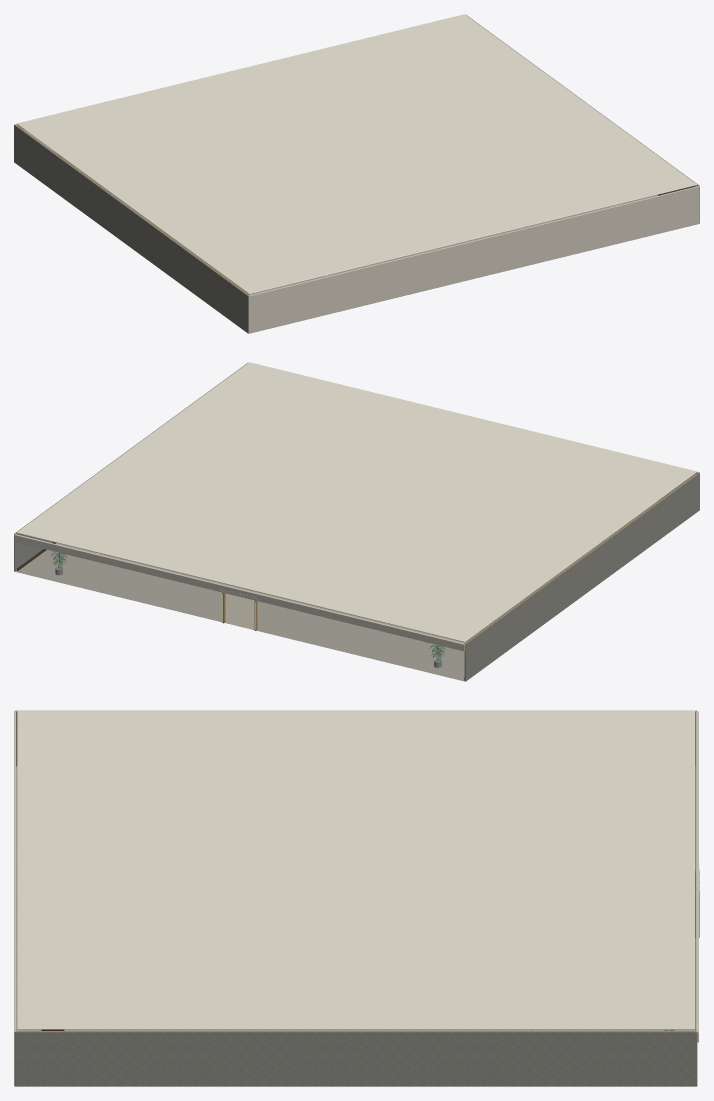
File: culture-gallery.glb
3 views of the same model, one above another, from view 1: azimuth 30°, elevation 25°; view 2: azimuth 150°, elevation 25°; view 3: azimuth 270°, elevation 25° (orthographic). The views are drawn at different scales.
Parts seen in each view (by area): view 1: Batched AUR-L4-CULTURE-GALLERY::Warm porcelain, Batched AUR-L4-CULTURE-GALLERY::Tenant culture-gallery, Batched AUR-L4-CULTURE-GALLERY::Travertine, Tenant floor culture-gallery; view 2: Batched AUR-L4-CULTURE-GALLERY::Warm porcelain, Tenant floor culture-gallery, Batched AUR-L4-CULTURE-GALLERY::Tenant glass, Batched AUR-L4-CULTURE-GALLERY::Travertine, Batched AUR-L4-CULTURE-GALLERY::Tenant culture-gallery, Batched AUR-L4-CULTURE-GALLERY::Bronze; view 3: Batched AUR-L4-CULTURE-GALLERY::Warm porcelain, Batched AUR-L4-CULTURE-GALLERY::Travertine, Tenant floor culture-gallery, Batched AUR-L4-CULTURE-GALLERY::Tenant culture-gallery, Batched AUR-L4-CULTURE-GALLERY::Bronze.
Boxes of the visible parts, box(x1,y1,x2,y2) form: Batched AUR-L4-CULTURE-GALLERY::Warm porcelain: box(16, 14, 697, 294); Batched AUR-L4-CULTURE-GALLERY::Tenant culture-gallery: box(14, 124, 699, 333); Batched AUR-L4-CULTURE-GALLERY::Travertine: box(14, 15, 699, 333); Tenant floor culture-gallery: box(55, 152, 657, 295); Batched AUR-L4-CULTURE-GALLERY::Warm porcelain: box(16, 362, 697, 642); Tenant floor culture-gallery: box(15, 500, 658, 681); Batched AUR-L4-CULTURE-GALLERY::Tenant glass: box(15, 542, 464, 680); Batched AUR-L4-CULTURE-GALLERY::Travertine: box(14, 363, 699, 681); Batched AUR-L4-CULTURE-GALLERY::Tenant culture-gallery: box(14, 472, 699, 651); Batched AUR-L4-CULTURE-GALLERY::Bronze: box(17, 473, 696, 643); Batched AUR-L4-CULTURE-GALLERY::Warm porcelain: box(17, 710, 699, 1030); Batched AUR-L4-CULTURE-GALLERY::Travertine: box(15, 710, 697, 1086); Tenant floor culture-gallery: box(16, 766, 695, 1031); Batched AUR-L4-CULTURE-GALLERY::Tenant culture-gallery: box(14, 711, 698, 1086); Batched AUR-L4-CULTURE-GALLERY::Bronze: box(19, 870, 699, 1031).
Size of the model in its own units: 60.16 by 4.97 by 54.29.
12 materials, 4 textured.
